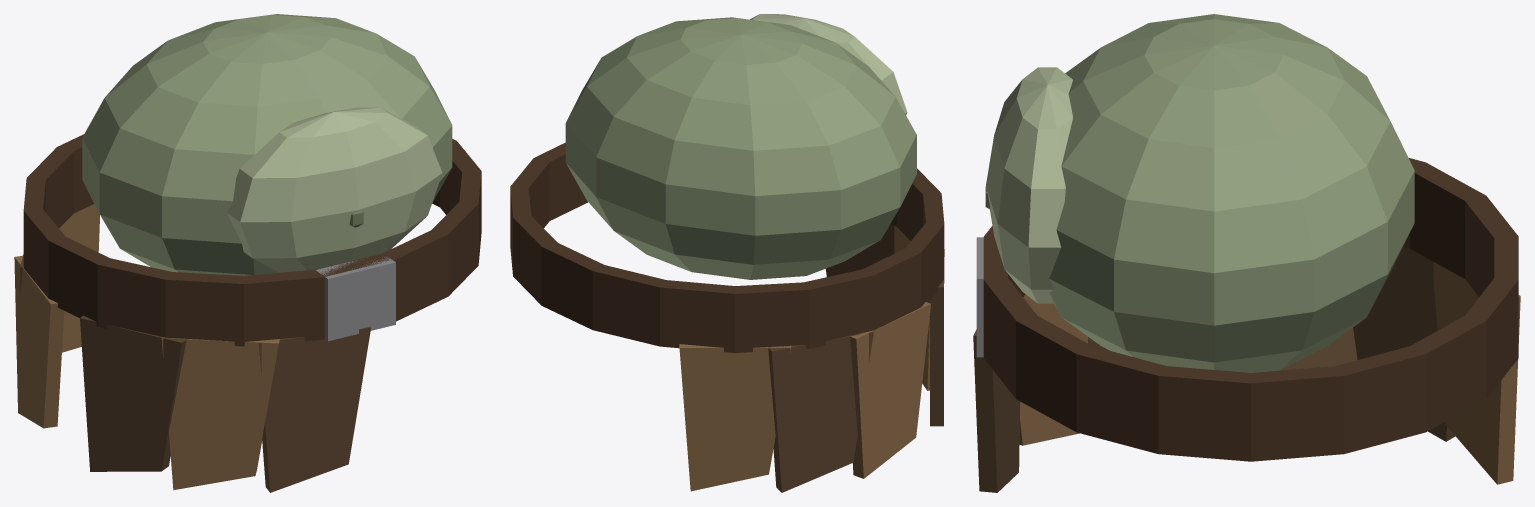
The model's file is stonebrow_belly.glb.
The picture shows the model from 3 angles, left to right: view 1: azimuth 30°, elevation 25°; view 2: azimuth 150°, elevation 25°; view 3: azimuth 270°, elevation 25°; orthographic projection. The views are drawn at different scales.
Parts seen in each view (by area): view 1: stonebrow_belly; view 2: stonebrow_belly; view 3: stonebrow_belly.
Part boxes in pixels (x1,y1,x2,y2): stonebrow_belly: (14,14,481,492); stonebrow_belly: (510,14,944,492); stonebrow_belly: (973,14,1520,492).
Size of the model in its own units: 0.9696 by 0.85 by 0.8872.
